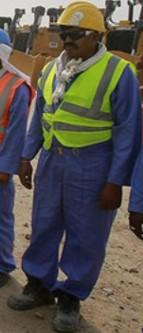hat: (50, 1, 123, 63), (1, 12, 33, 73)
vest: (44, 46, 143, 164), (1, 54, 34, 211)
